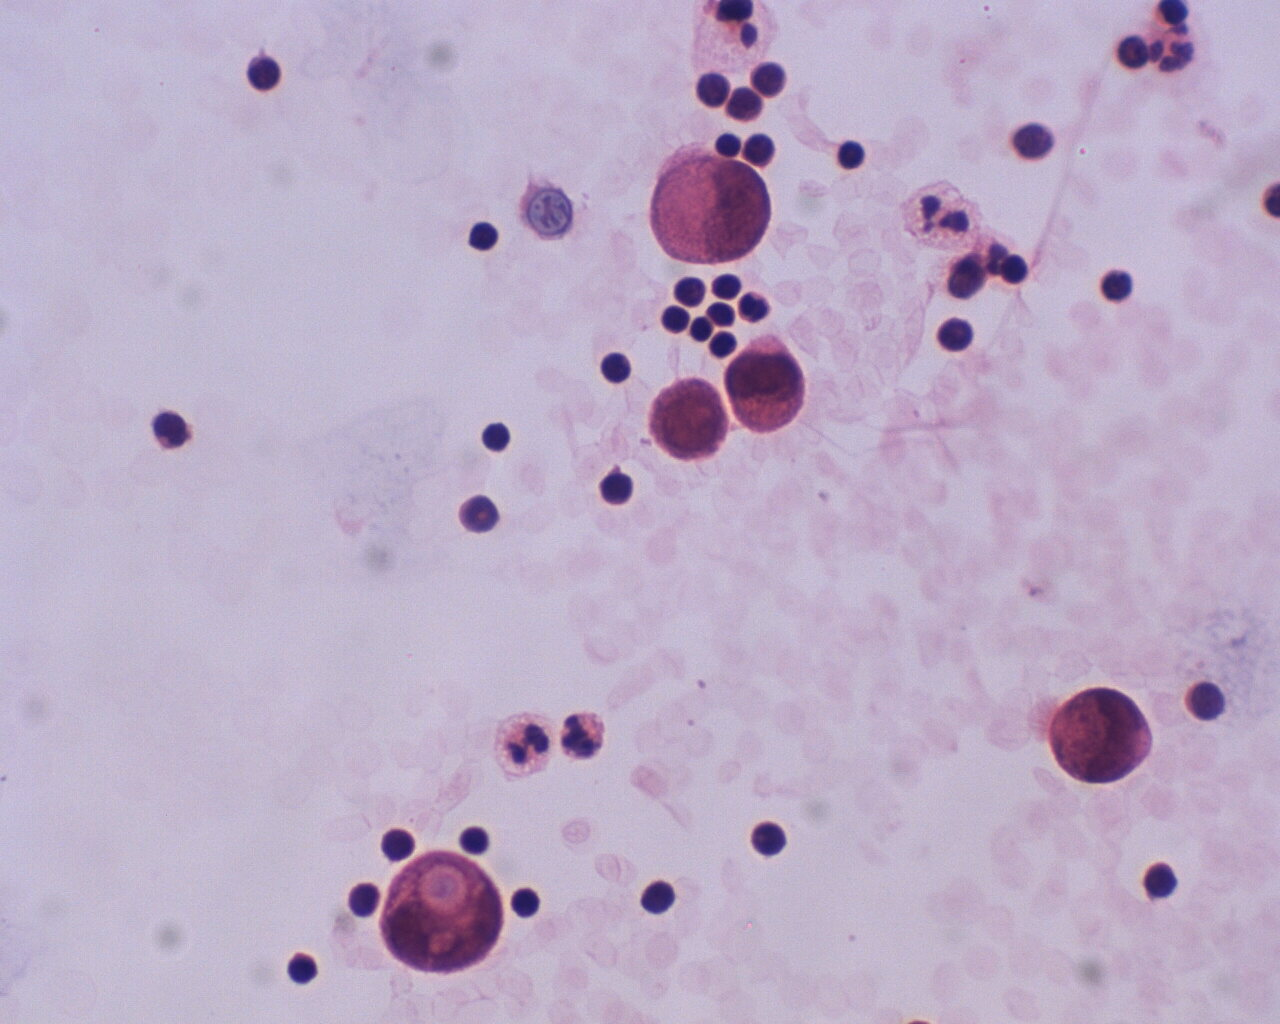ab: (378, 852, 507, 982), (644, 153, 772, 270), (1050, 682, 1157, 789), (723, 338, 807, 434), (649, 372, 731, 461)
lymph: (1178, 673, 1229, 727), (1007, 116, 1056, 169), (741, 814, 795, 861), (594, 461, 643, 509), (932, 315, 982, 358), (502, 881, 549, 926), (639, 872, 683, 917), (693, 65, 734, 112), (241, 51, 283, 96), (1095, 266, 1141, 306), (830, 133, 871, 176), (453, 820, 502, 857), (1140, 860, 1179, 905), (282, 950, 324, 990), (598, 345, 637, 385), (478, 418, 515, 453), (466, 215, 502, 253)
neutro: (496, 718, 554, 774)
